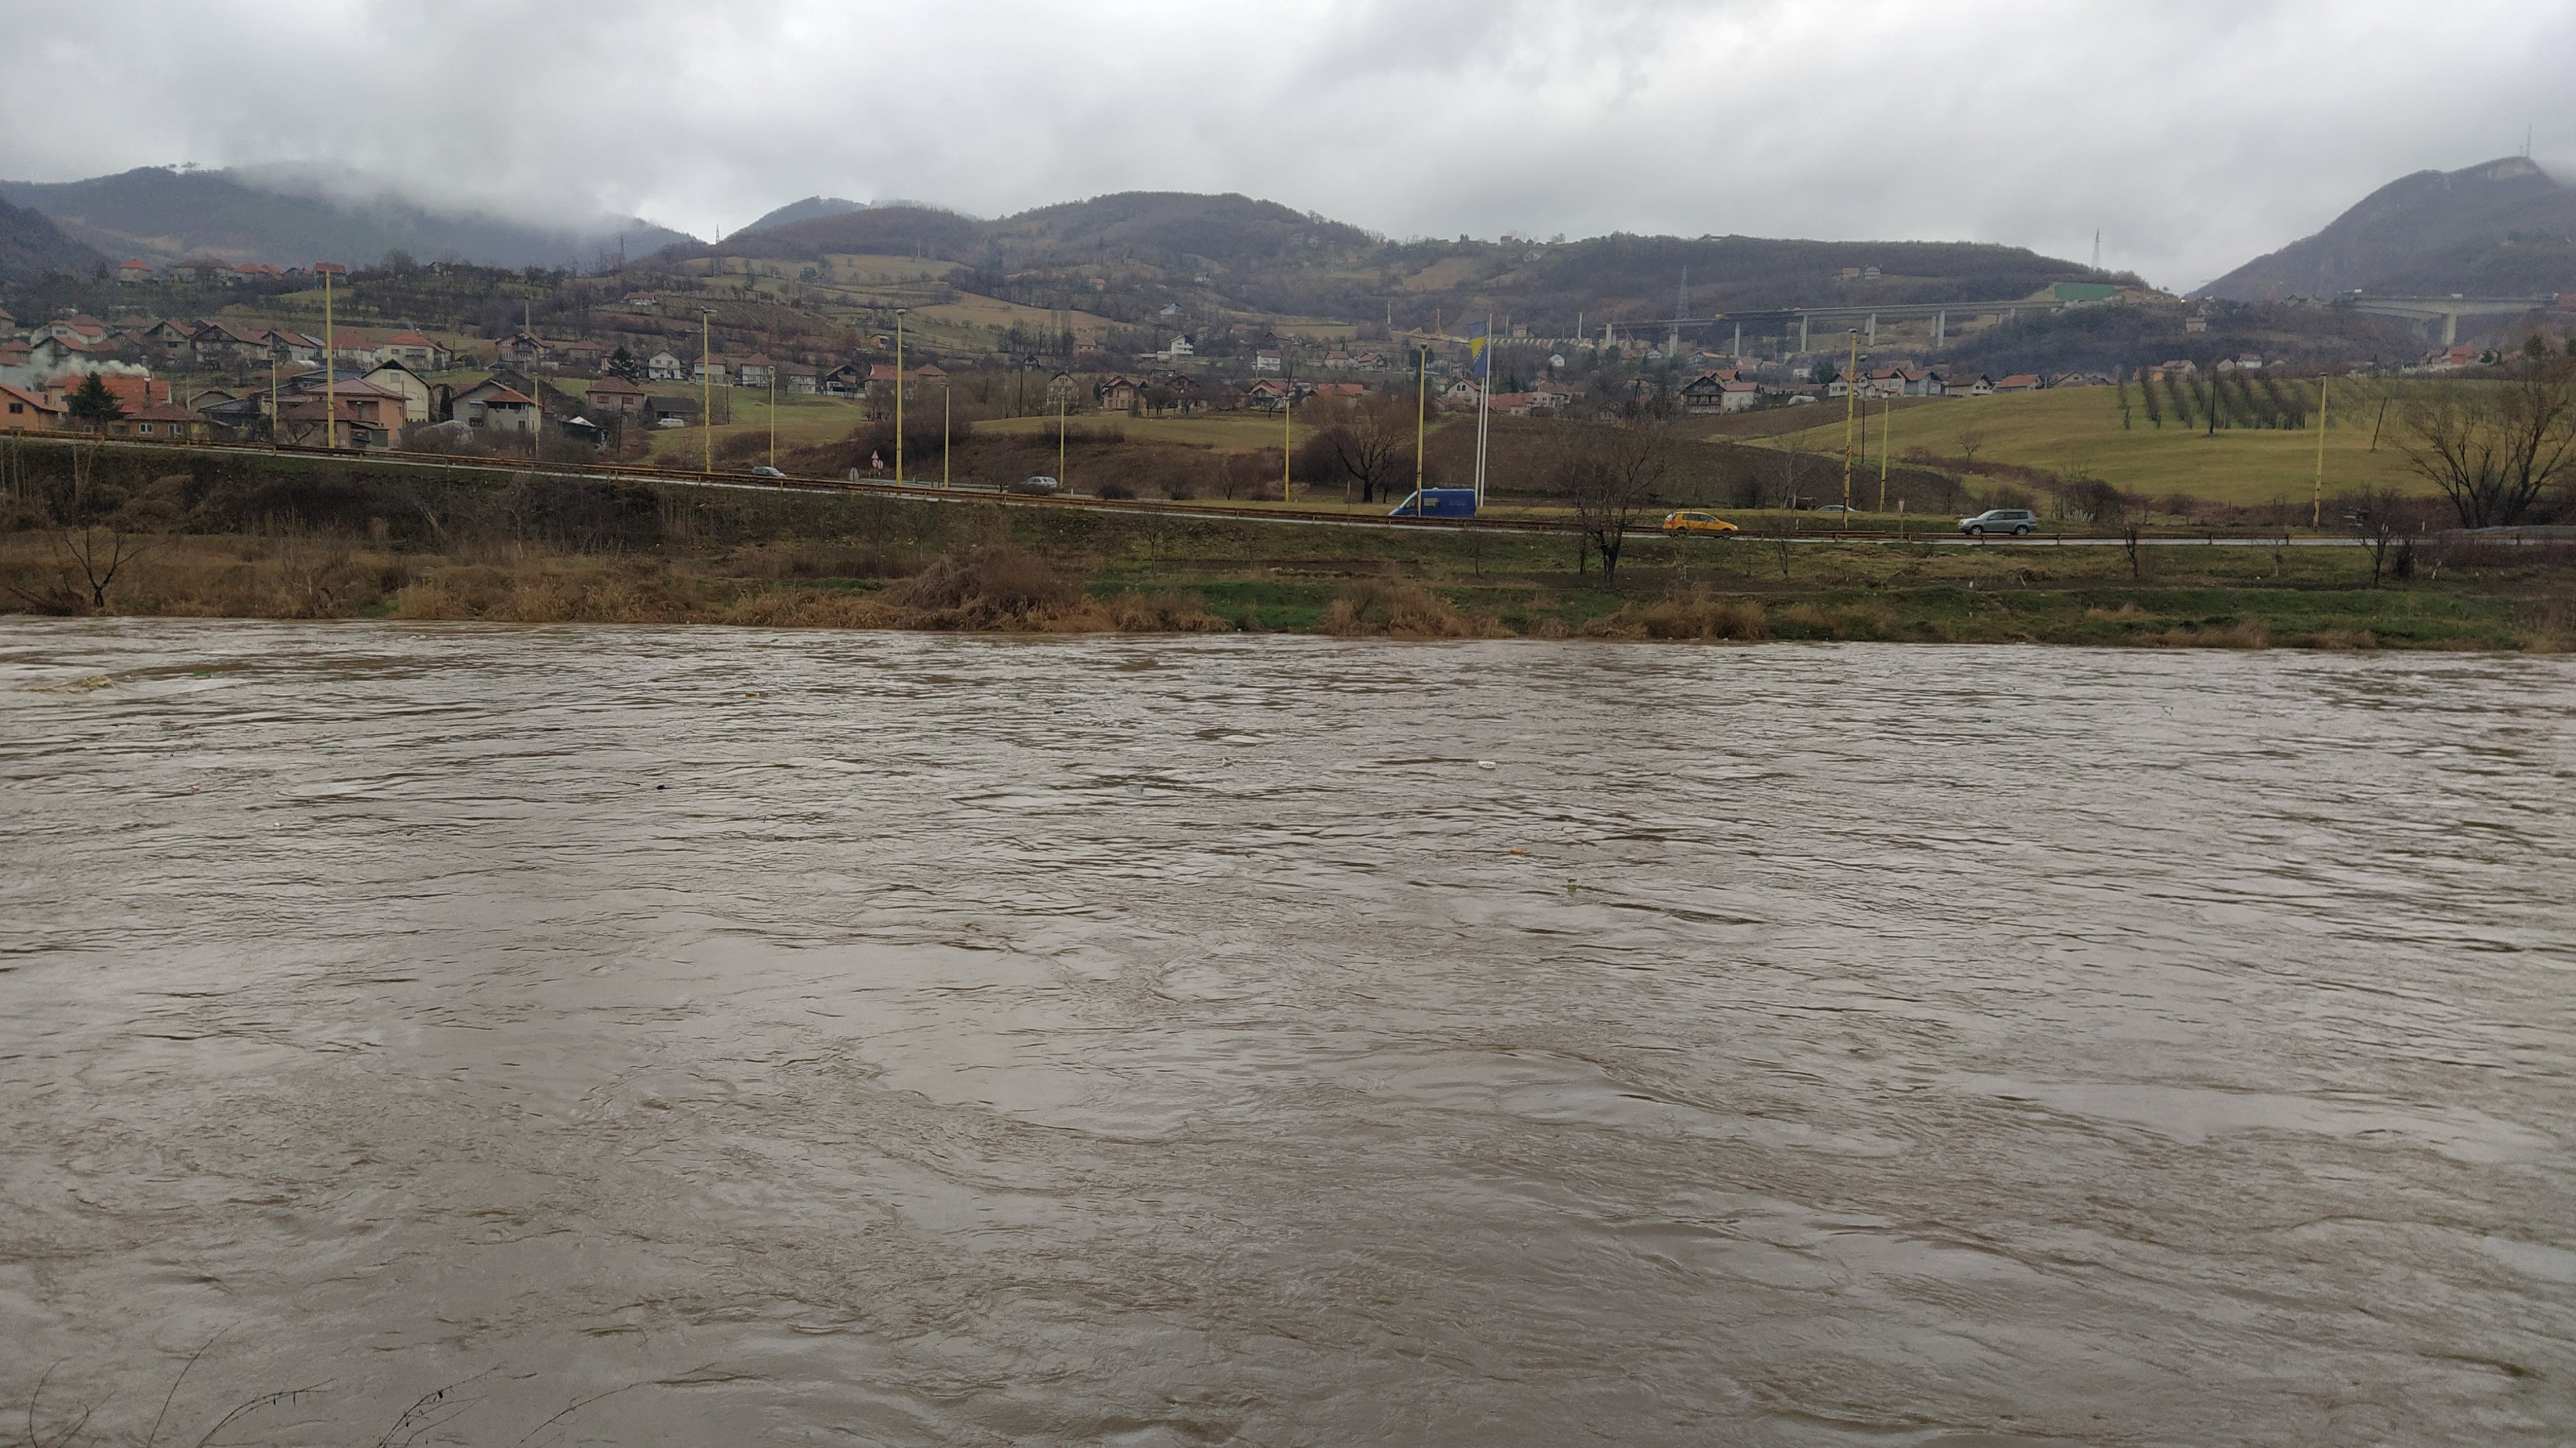Plastic Bottle: (1477, 759, 1497, 768), (1125, 784, 1143, 793), (195, 671, 212, 676), (1511, 848, 1523, 853), (191, 786, 200, 791), (656, 784, 665, 789), (747, 690, 755, 696), (1054, 708, 1062, 713), (1980, 719, 1990, 722), (419, 634, 426, 637), (771, 637, 778, 641)
